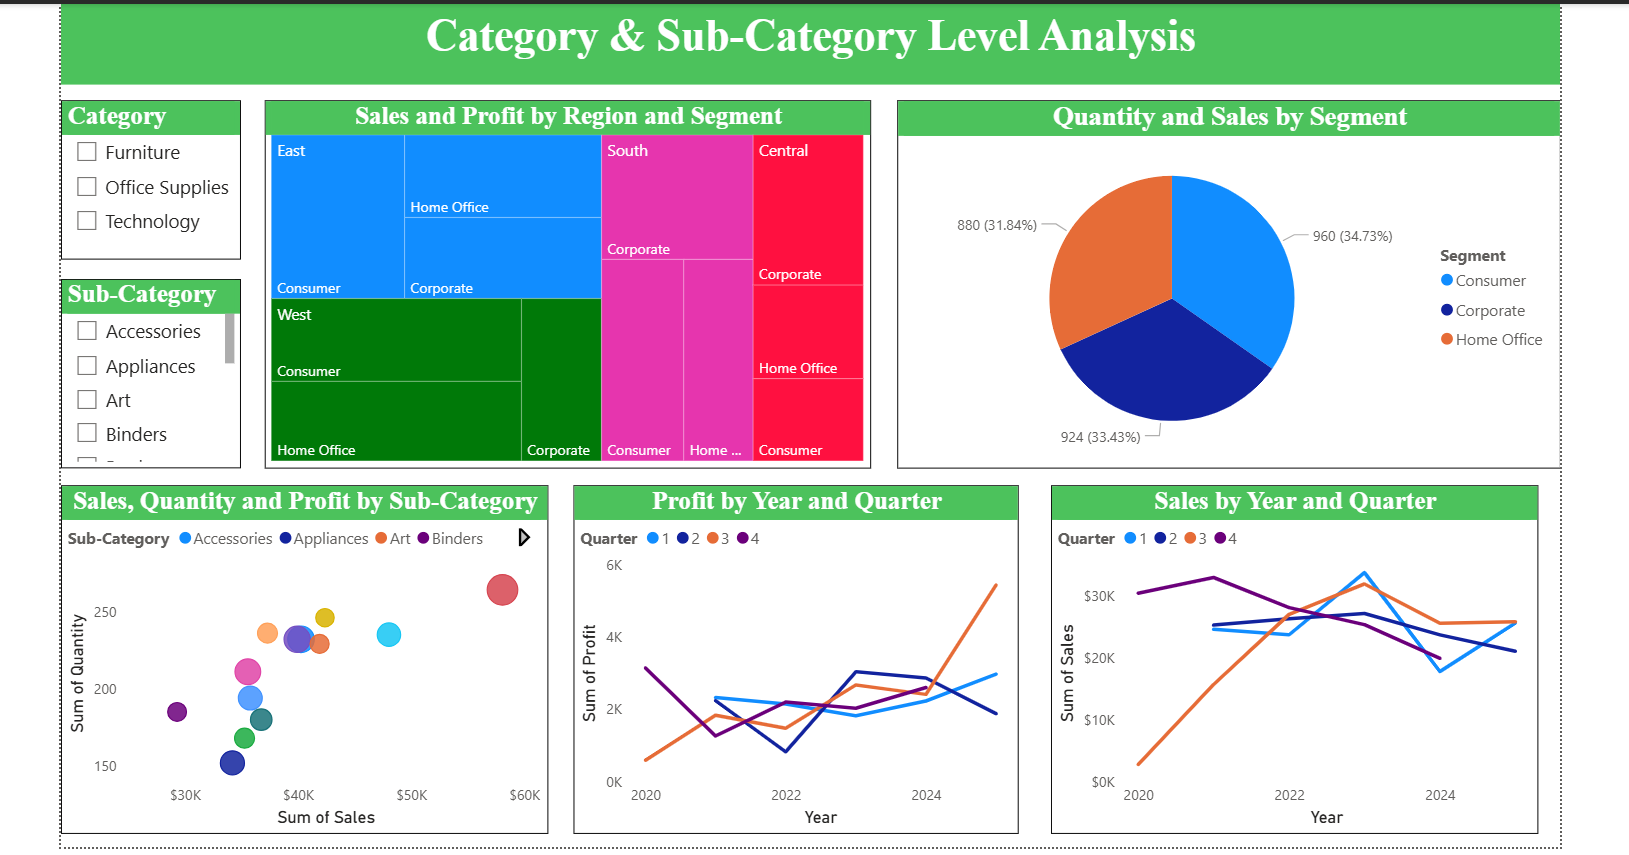

What the dashboard file says about the page in this screenshot:
{"tool":"powerbi","page":{"name":"Category & sub-Category","canvas":[1280,720],"ordinal":2},"visuals":[{"type":"textbox","box":[0,0,1280.3,68.6],"z":0},{"type":"slicer","title":"Category","fields":{"Values":["superstore_dataset.Category"]},"box":[0,82.3,153.7,135.8],"z":1000},{"type":"slicer","title":"Sub-Category","fields":{"Values":["superstore_dataset.Sub-Category"]},"box":[0,234.6,153.7,161.9],"z":2000},{"type":"treemap","title":"Sales and Profit by Region and Segment","fields":{"Group":["superstore_dataset.Region"],"Details":["superstore_dataset.Segment"],"Values":["Sum(superstore_dataset.Sales)"]},"box":[174.3,82.3,517.3,314.2],"z":3000},{"type":"pieChart","title":"Quantity and Sales by Segment","fields":{"Category":["superstore_dataset.Segment"],"Y":["Sum(superstore_dataset.Quantity)"]},"box":[713.6,82.3,566.7,314.2],"z":4000},{"type":"scatterChart","title":" Sales, Quantity and Profit by Sub-Category","fields":{"Series":["superstore_dataset.Sub-Category"],"X":["Sum(superstore_dataset.Sales)"],"Y":["Sum(superstore_dataset.Quantity)"],"Size":["Sum(superstore_dataset.Profit)"]},"box":[0,410.3,415.8,297.8],"z":5000},{"type":"lineChart","title":" Profit by Year and Quarter","fields":{"Category":["superstore_dataset.Year"],"Series":["superstore_dataset.Quarter"],"Y":["Sum(superstore_dataset.Profit)"]},"box":[437.7,410.3,380.1,297.8],"z":6000},{"type":"lineChart","title":" Sales by Year and Quarter","fields":{"Y":["Sum(superstore_dataset.Sales)"],"Category":["superstore_dataset.Year"],"Series":["superstore_dataset.Quarter"]},"box":[845.3,410.3,415.8,297.8],"z":7000}]}

Visuals, with their boxes in screenshot pixels (x1, y1, x2, y2):
textbox: [55,0,1558,81]
"Category" slicer: [55,97,236,256]
"Sub-Category" slicer: [55,275,236,465]
"Sales and Profit by Region and Segment" treemap: [260,97,867,465]
"Quantity and Sales by Segment" pieChart: [893,97,1558,465]
" Sales, Quantity and Profit by Sub-Category" scatterChart: [55,482,543,831]
" Profit by Year and Quarter" lineChart: [569,482,1015,831]
" Sales by Year and Quarter" lineChart: [1047,482,1535,831]
